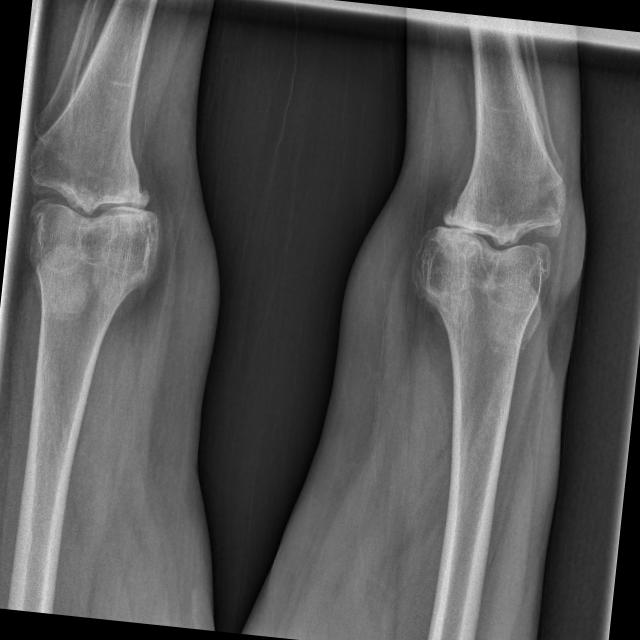Knee: (412, 170, 568, 304), (19, 142, 166, 272)
